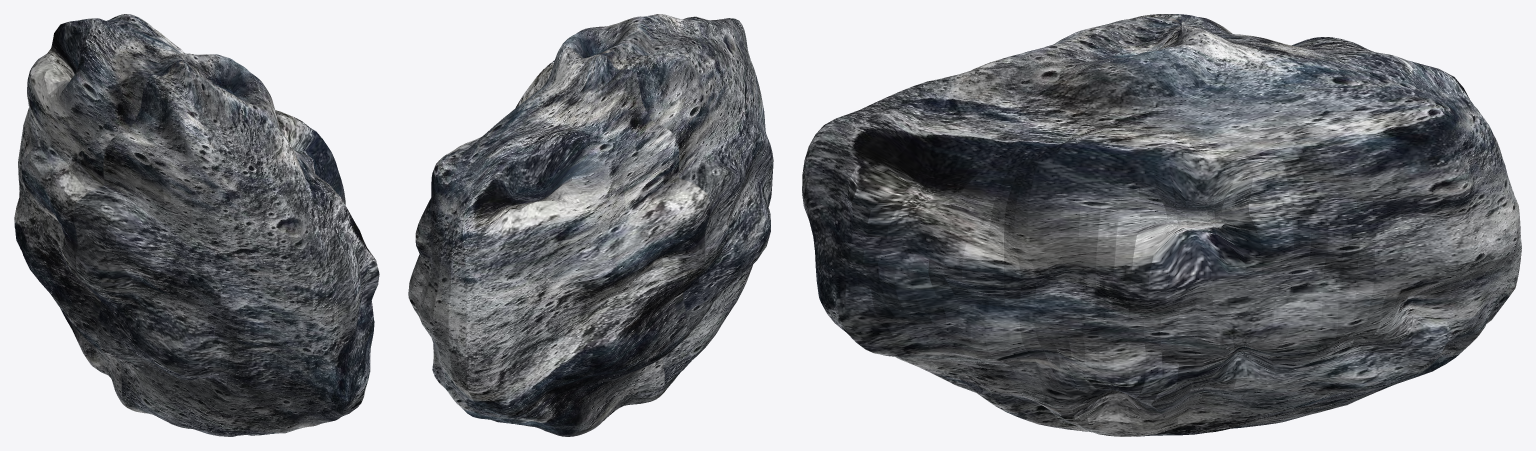
File: AsteroideIcarus.gltf
3 renders of one model, left to right at view 1: azimuth 30°, elevation 25°; view 2: azimuth 150°, elevation 25°; view 3: azimuth 270°, elevation 25°, orthographic. The views are drawn at different scales.
Visible parts, largest first — view 1: Sphere; view 2: Sphere; view 3: Sphere.
Part boxes in pixels (bbox=[...]): Sphere: bbox=[14, 14, 379, 436]; Sphere: bbox=[408, 14, 773, 436]; Sphere: bbox=[802, 14, 1521, 436].
Bounding box in the file's own units: 1.33 × 2.03 × 3.29.
1 material, 1 textured.
